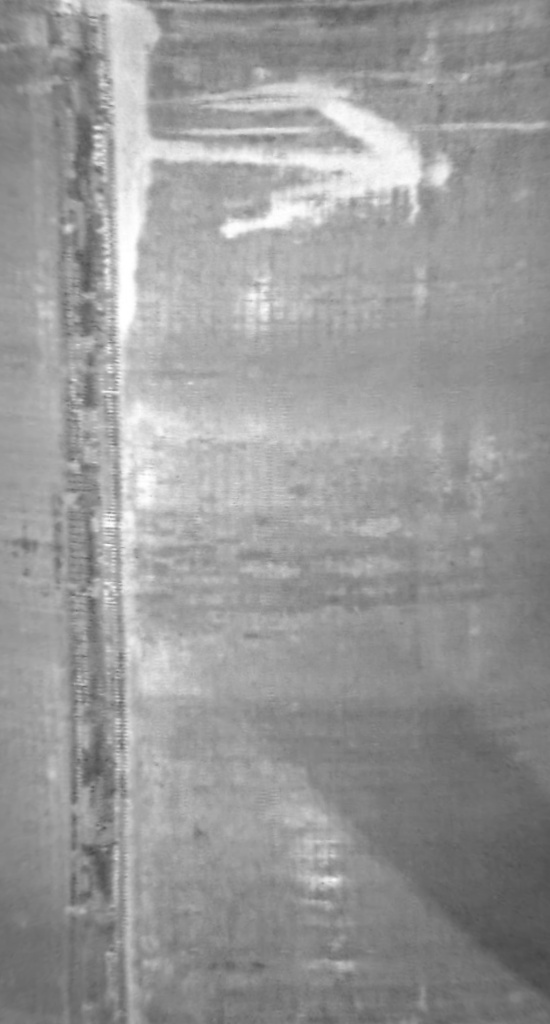splice: (35, 2, 132, 1024)
